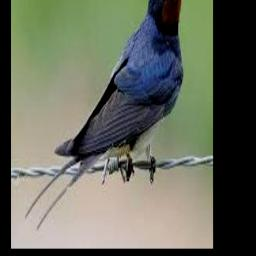Swallow: (24, 0, 184, 231)
